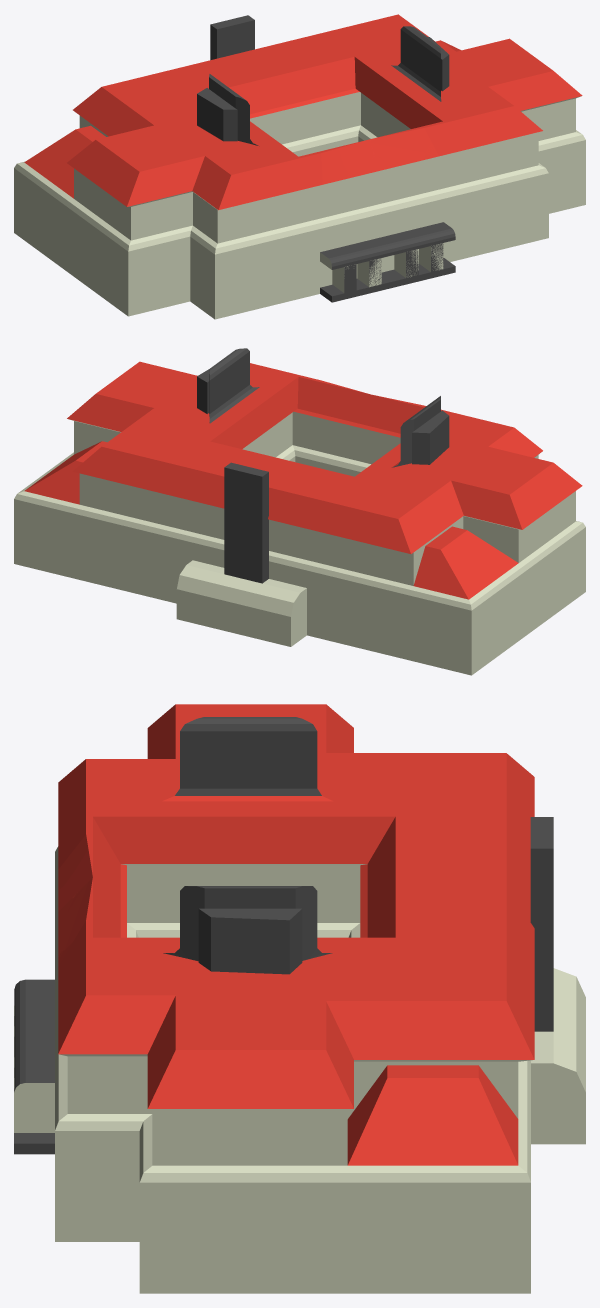
File: FancyManor.fbx
3 views of the same model, one above another, from view 1: azimuth 30°, elevation 25°; view 2: azimuth 150°, elevation 25°; view 3: azimuth 270°, elevation 25° (orthographic). The views are drawn at different scales.
Parts seen in each view (by area): view 1: Manor_cell.009, Manor, Manor_cell.020, Manor_cell.054, Manor_cell.053, Manor_cell.005, Manor_cell.041, Manor_cell.032, Manor_cell.015, Manor_cell, Manor_cell.047, Manor_cell.043 (+5 smaller); view 2: Manor, Manor_cell.009, Manor_cell.020, Manor_cell.054, Manor_cell.053, Manor_cell.041, Manor_cell.001, Manor_cell.032, Manor_cell.022, Manor_cell.046, Manor_cell.017; view 3: Manor, Manor_cell.009, Manor_cell.001, Manor_cell.041, Manor_cell.020, Manor_cell.032, Manor_cell.049, Manor_cell.042, Manor_cell.005, Manor_cell.054, Manor_cell.023, Manor_cell.014.
Boxes of the visible parts, bbox=[...] form: Manor_cell.009: bbox=[41, 26, 585, 319]; Manor: bbox=[43, 15, 585, 318]; Manor_cell.020: bbox=[58, 72, 192, 160]; Manor_cell.054: bbox=[41, 136, 141, 228]; Manor_cell.053: bbox=[14, 141, 60, 260]; Manor_cell.005: bbox=[263, 148, 348, 204]; Manor_cell.041: bbox=[449, 38, 552, 75]; Manor_cell.032: bbox=[315, 14, 421, 44]; Manor_cell.015: bbox=[312, 35, 377, 147]; Manor_cell: bbox=[203, 172, 255, 235]; Manor_cell.047: bbox=[370, 123, 436, 196]; Manor_cell.043: bbox=[200, 192, 265, 318]; Manor: bbox=[14, 348, 585, 675]; Manor_cell.009: bbox=[69, 349, 585, 675]; Manor_cell.020: bbox=[337, 468, 496, 569]; Manor_cell.054: bbox=[473, 469, 562, 610]; Manor_cell.053: bbox=[385, 567, 509, 674]; Manor_cell.041: bbox=[96, 362, 196, 408]; Manor_cell.001: bbox=[17, 405, 167, 514]; Manor_cell.032: bbox=[102, 429, 187, 466]; Manor_cell.022: bbox=[244, 387, 281, 447]; Manor_cell.046: bbox=[546, 464, 579, 525]; Manor_cell.017: bbox=[551, 486, 577, 540]; Manor: bbox=[14, 704, 585, 1293]; Manor_cell.009: bbox=[14, 705, 532, 1293]; Manor_cell.001: bbox=[317, 971, 530, 1293]; Manor_cell.041: bbox=[165, 983, 352, 1192]; Manor_cell.020: bbox=[311, 715, 506, 804]; Manor_cell.032: bbox=[407, 931, 533, 1076]; Manor_cell.049: bbox=[139, 1149, 432, 1293]; Manor_cell.042: bbox=[128, 814, 242, 937]; Manor_cell.005: bbox=[58, 786, 121, 889]; Manor_cell.054: bbox=[209, 704, 341, 739]; Manor_cell.023: bbox=[57, 932, 85, 1019]; Manor_cell.014: bbox=[278, 1079, 353, 1119].
Bounding box in the file's own units: 2959 × 1082 × 1870.
